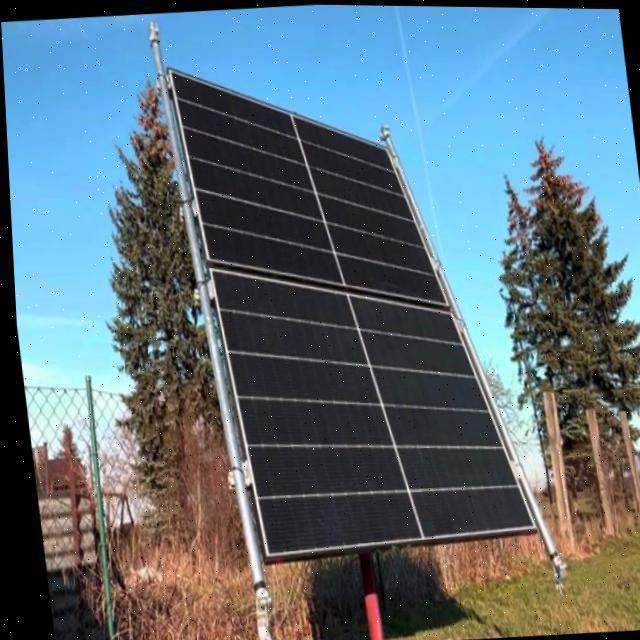Normal Solar Panel: (165, 46, 532, 563)
